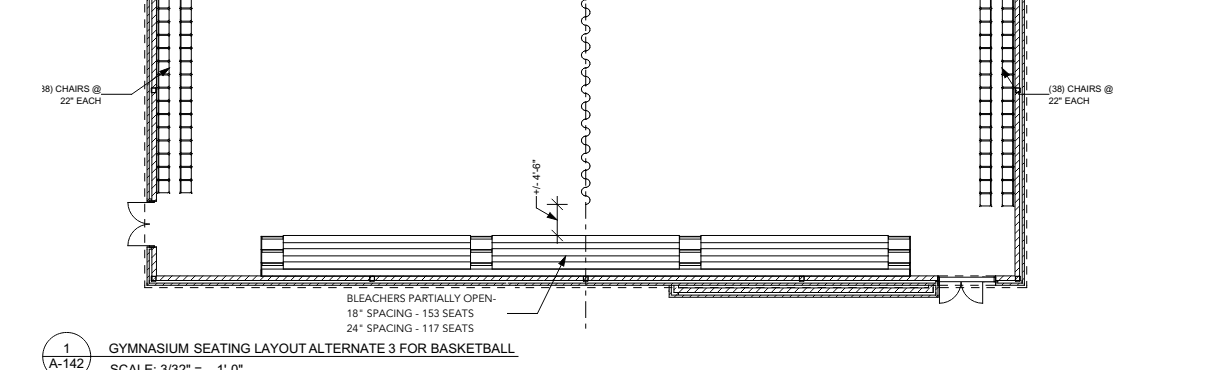double door: (931, 272, 994, 314), (123, 196, 159, 251)
